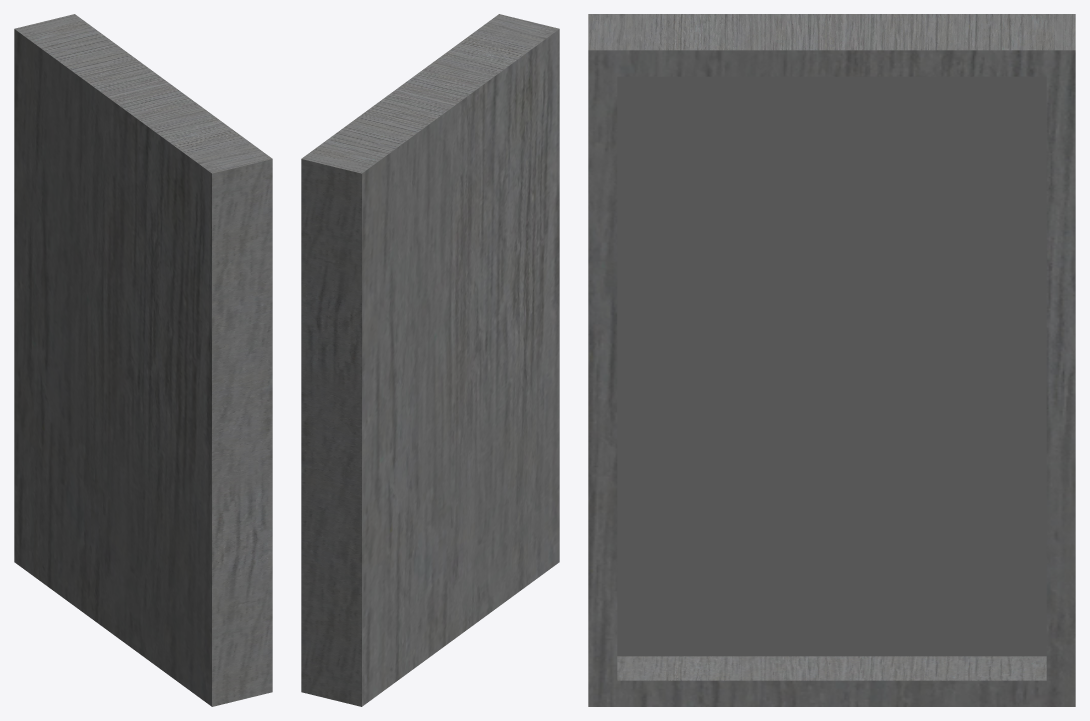
The model's file is CatDoorBlock.obj.
3 renders of one model, left to right at view 1: azimuth 30°, elevation 25°; view 2: azimuth 150°, elevation 25°; view 3: azimuth 270°, elevation 25°, orthographic. The views are drawn at different scales.
Visible parts, largest first — view 1: polySurface37 polySurface33 polySurface32 polySurface30 polySurf; view 2: polySurface37 polySurface33 polySurface32 polySurface30 polySurf; view 3: polySurface37 polySurface33 polySurface32 polySurface30 polySurf.
Boxes of the visible parts, x1,y1,x2,y2 form: polySurface37 polySurface33 polySurface32 polySurface30 polySurf: [14, 14, 272, 706]; polySurface37 polySurface33 polySurface32 polySurface30 polySurf: [301, 14, 559, 706]; polySurface37 polySurface33 polySurface32 polySurface30 polySurf: [588, 14, 1075, 706].
Size of the model in its own units: 2.97 by 25 by 16.82.
Materials: 2 (1 with a texture image).
